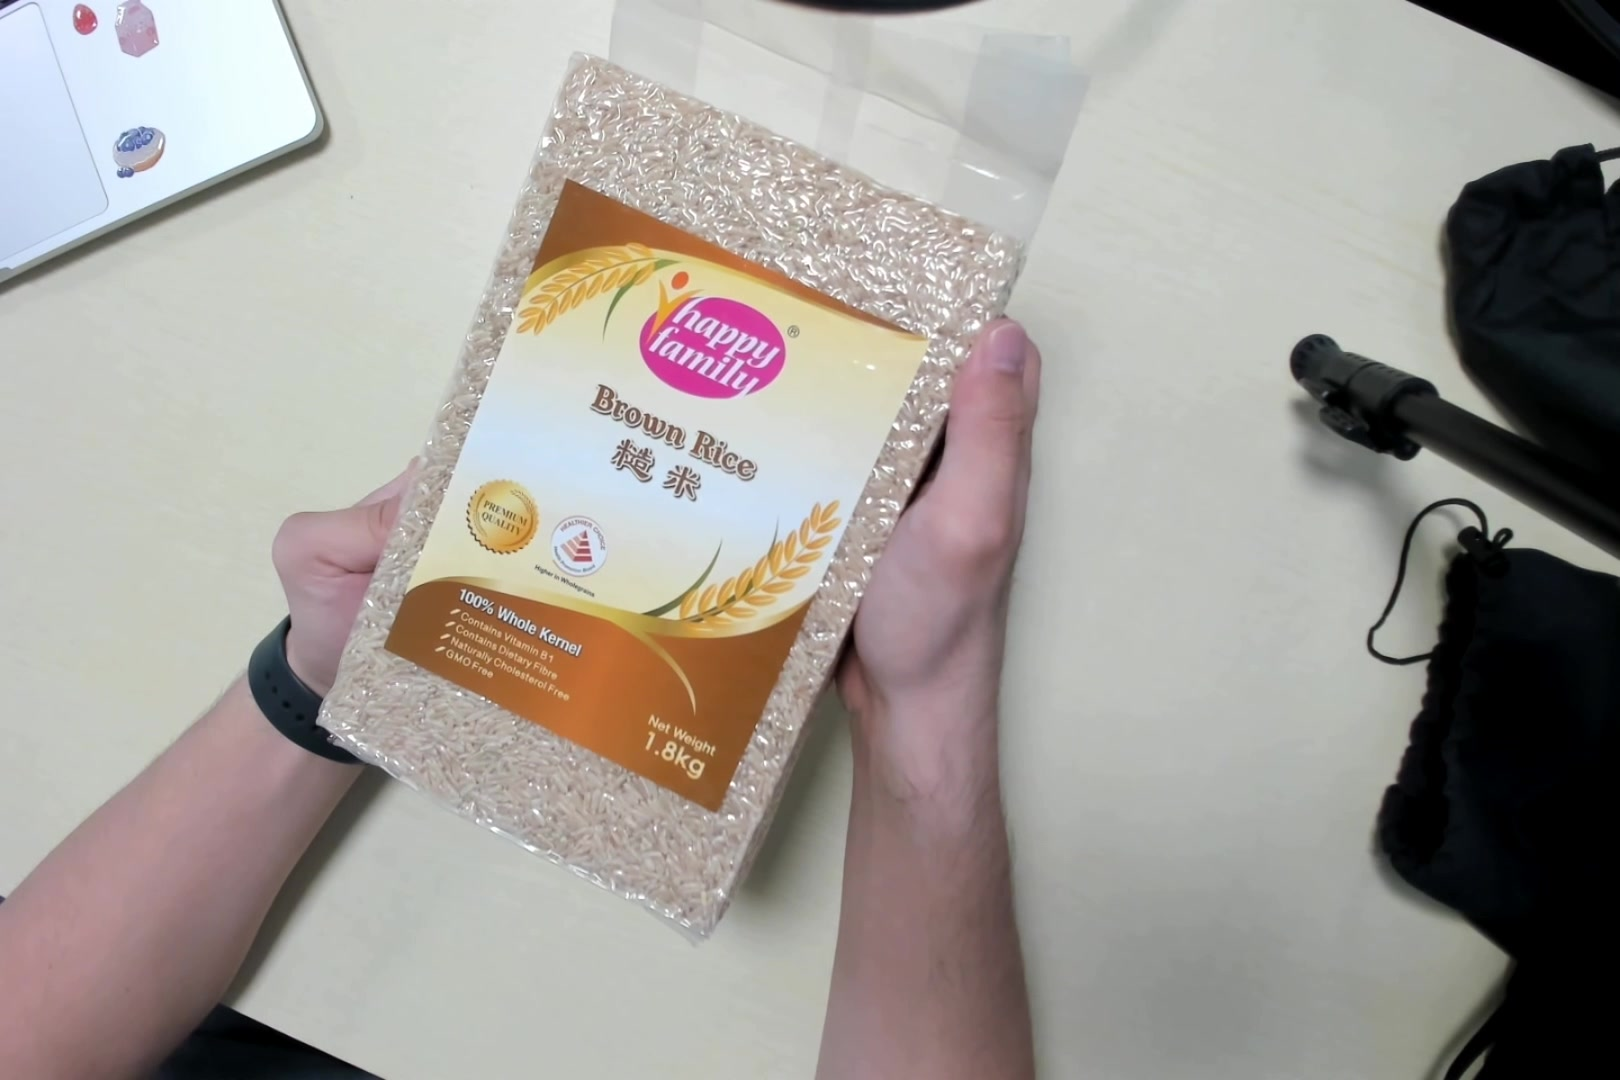Rice(BrownOthers)_1000-1999g_NonHalal_Healthy: (346, 4, 1086, 912)
